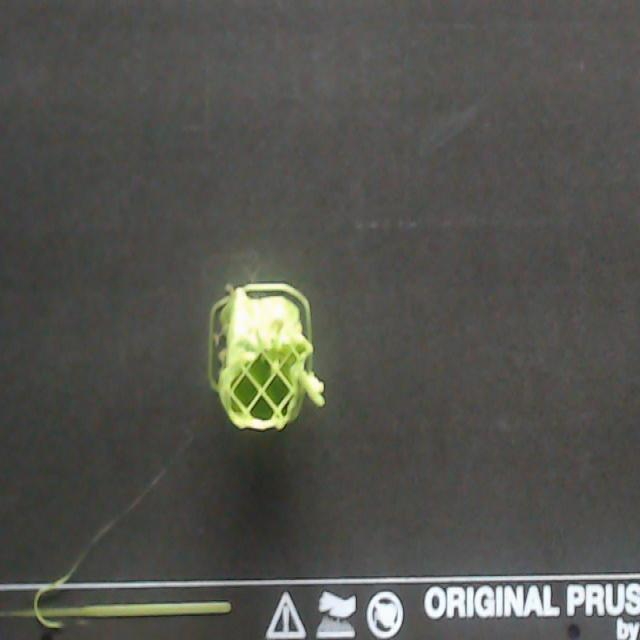mistake: (31, 471, 164, 629), (618, 623, 637, 639)
